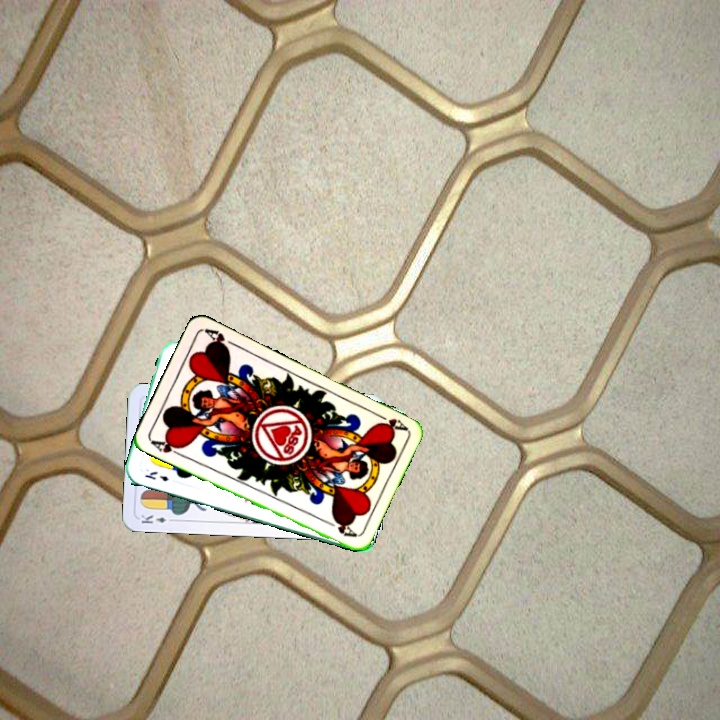EK: (137, 510, 177, 526), (141, 467, 171, 484)
HA: (147, 435, 186, 459), (370, 409, 409, 433)
